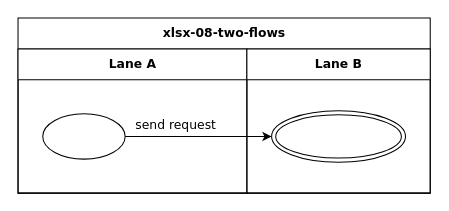
Some shapes in this 449 by 211 pixel diagram are drawn without their labels. Each missing label, with the centre of its shape:
Done early: pixel 338 136
Start: pixel 83 136
